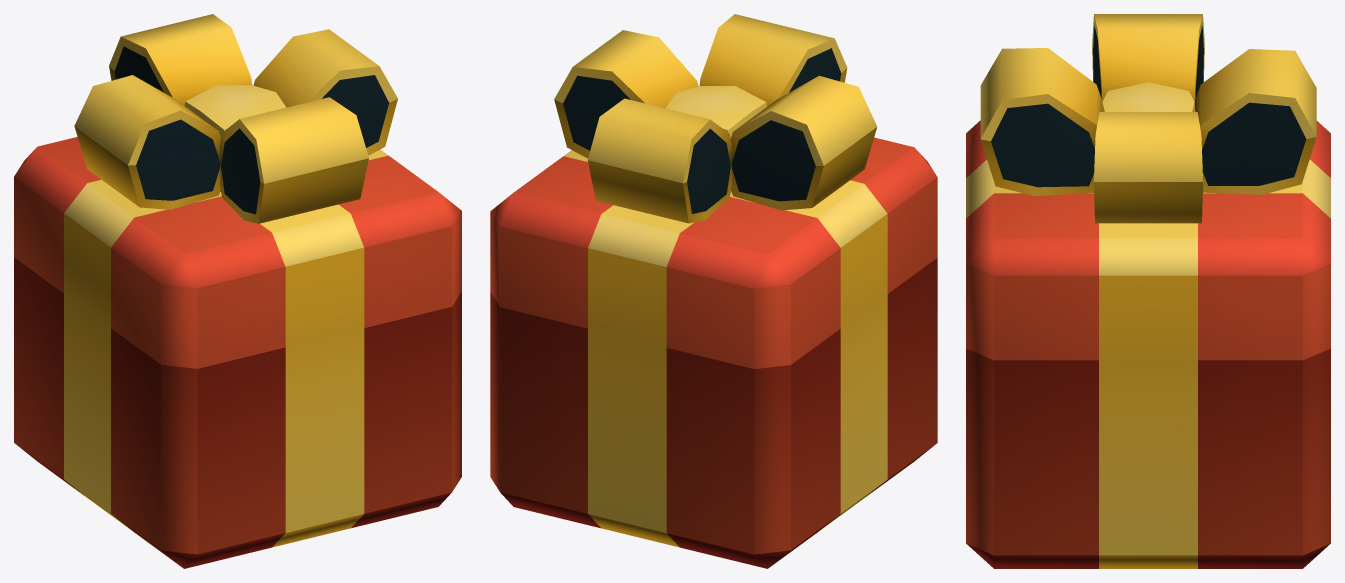
File: presi_square_4_red.fbx
3 renders of one model, left to right at view 1: azimuth 30°, elevation 25°; view 2: azimuth 150°, elevation 25°; view 3: azimuth 270°, elevation 25°, orthographic. The views are drawn at different scales.
Parts seen in each view (by area): view 1: presi_square_4_red; view 2: presi_square_4_red; view 3: presi_square_4_red.
Boxes of the visible parts, x1,y1,x2,y2 form: presi_square_4_red: [14, 14, 461, 568]; presi_square_4_red: [490, 14, 937, 568]; presi_square_4_red: [966, 14, 1330, 568].
Bounding box in the file's own units: 75 × 98 × 75.
1 material, 1 textured.
